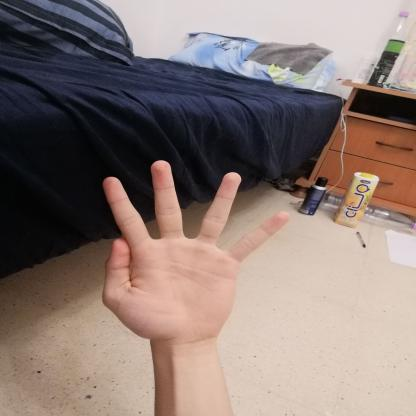SHEEN: (83, 152, 300, 354)
